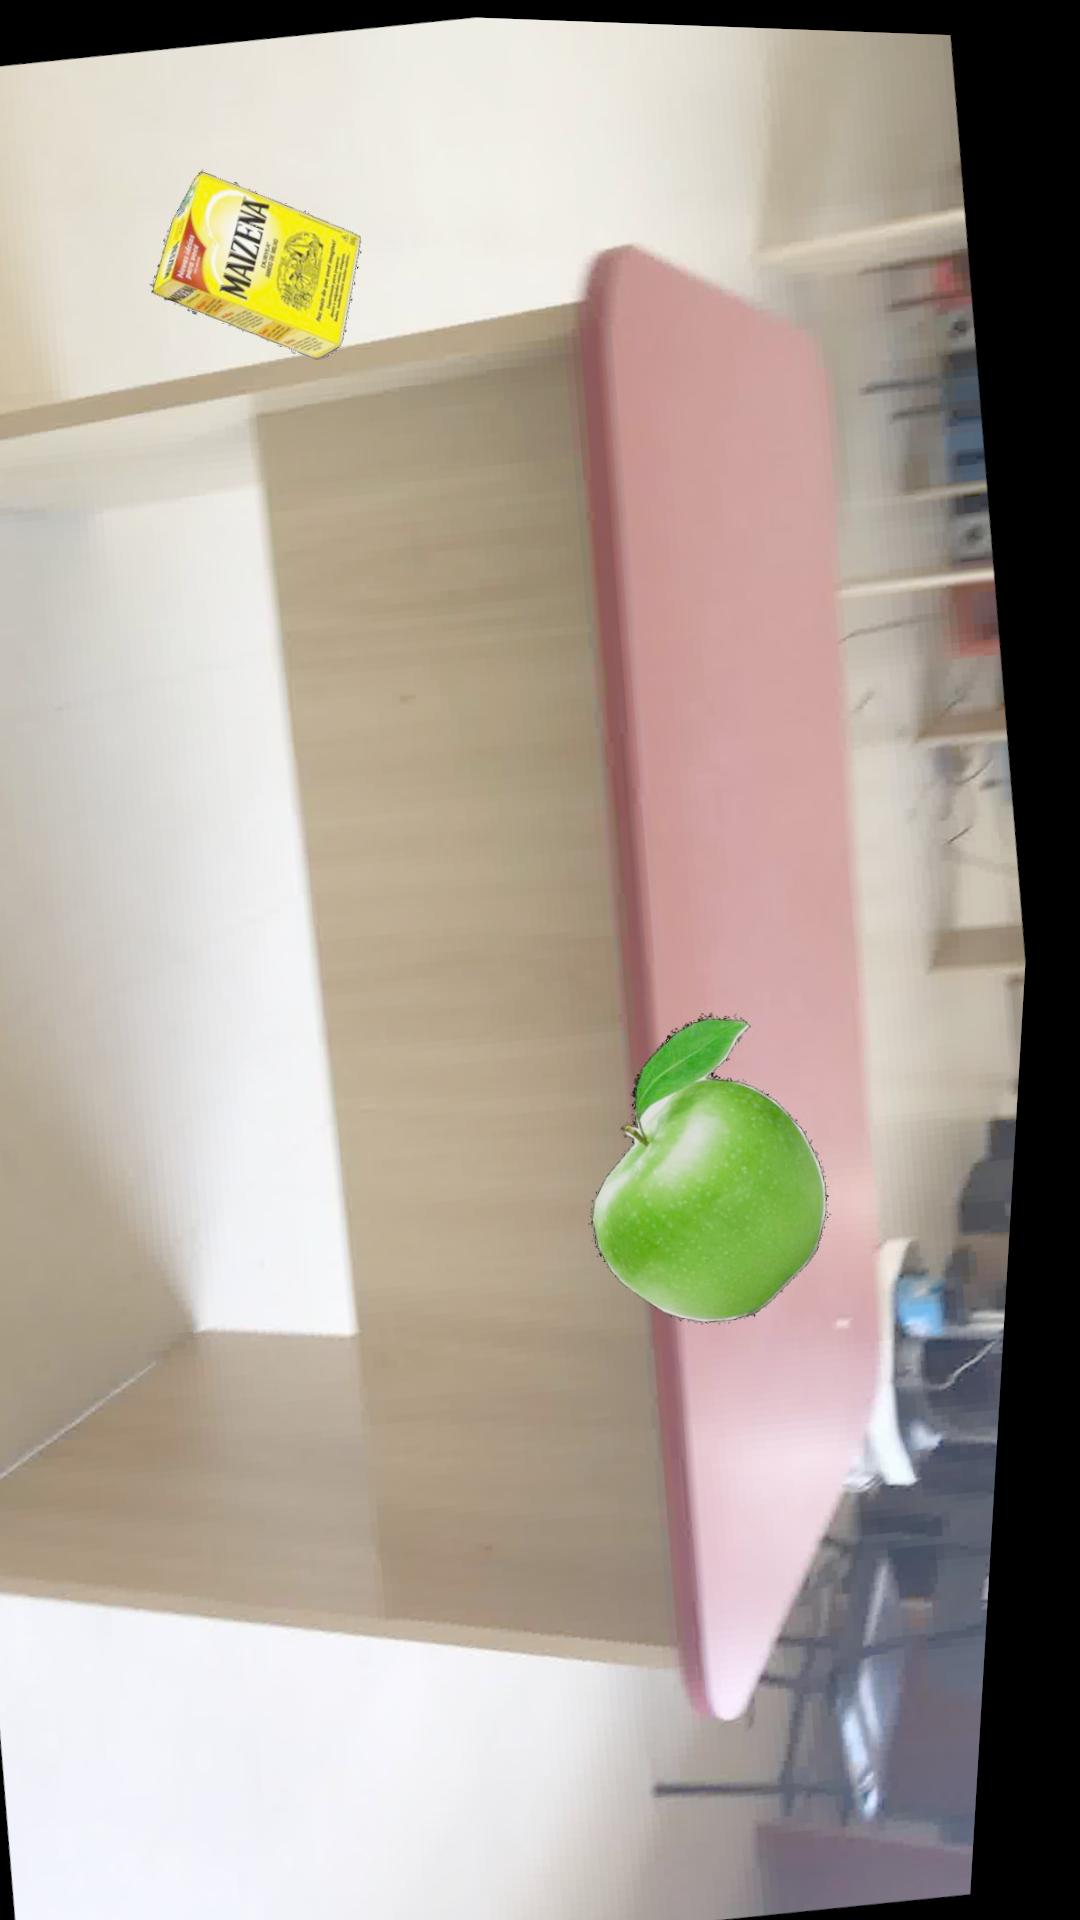green apple: (605, 1009, 843, 1317)
